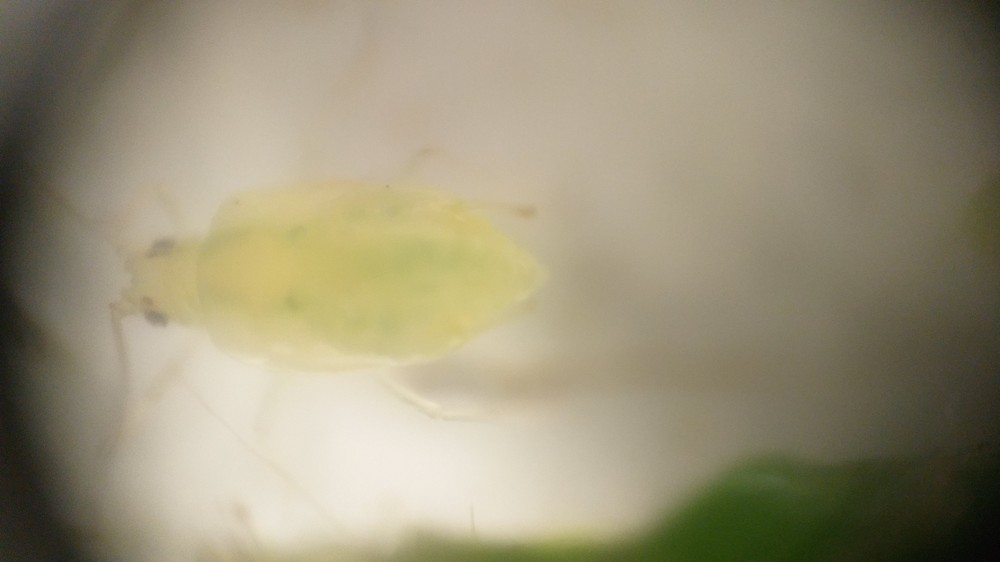Pulgon: (43, 109, 609, 480)
